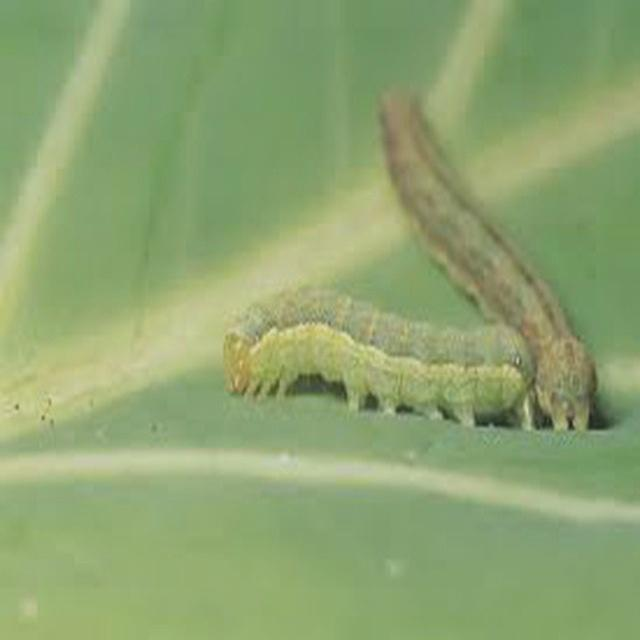gusano_cogollero: (214, 288, 533, 432)
